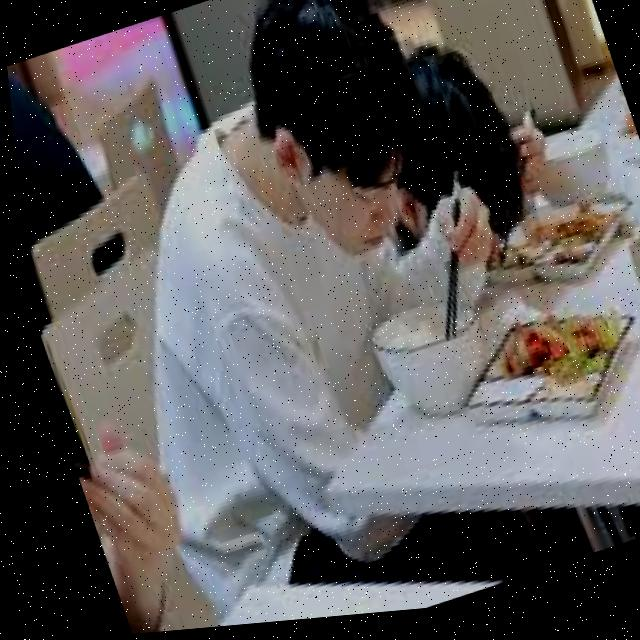eating-person: (2, 0, 593, 640)
